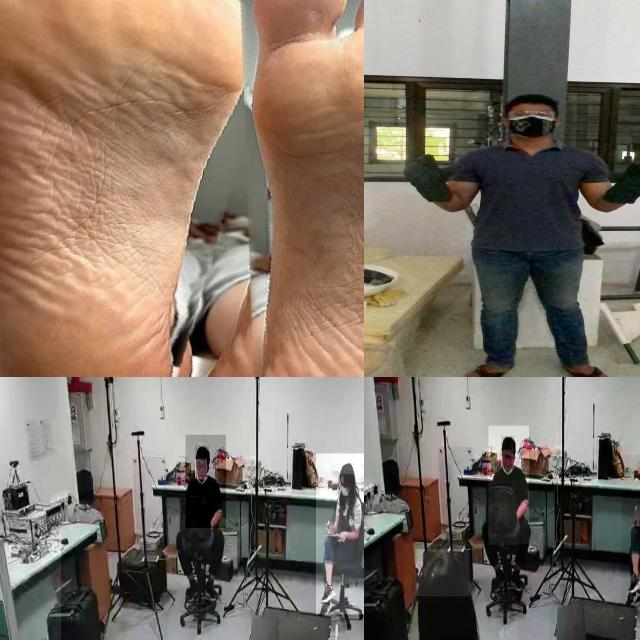Barefoots: (0, 0, 270, 377), (234, 0, 364, 377)
face_mask: (502, 105, 560, 138), (336, 476, 354, 505)
face_nomask: (195, 459, 207, 480), (502, 451, 514, 471)
glasses: (498, 106, 556, 120)
hand_glove: (399, 152, 461, 190), (608, 161, 640, 204)
hand_noglove: (336, 529, 347, 542), (328, 522, 338, 534)
head_nohelmet: (416, 549, 470, 597), (501, 90, 562, 111), (339, 461, 354, 475), (195, 445, 209, 459), (501, 436, 515, 450)
person: (444, 88, 631, 377), (404, 544, 518, 640), (316, 453, 364, 615), (488, 426, 530, 544), (186, 435, 227, 529), (622, 455, 640, 599)
shoes: (318, 580, 337, 607), (204, 576, 220, 604), (625, 568, 640, 596), (186, 577, 200, 604), (491, 568, 504, 592)
